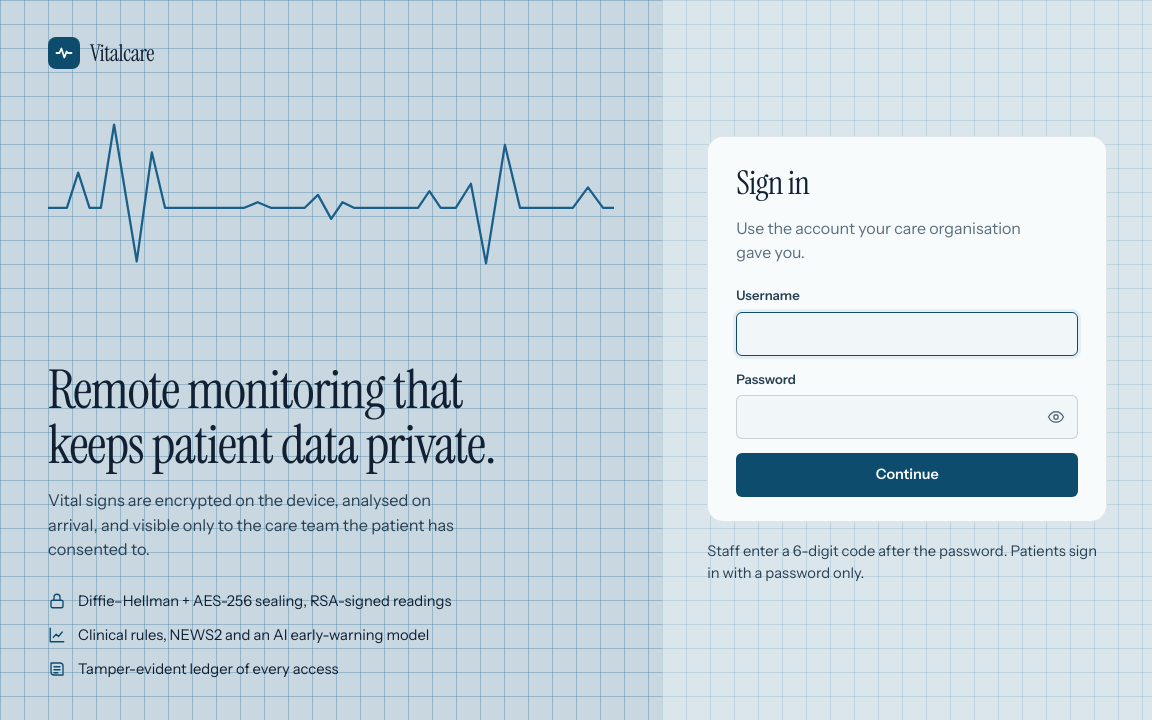
Login › can reveal the password and sends the username without surrounding spaces
Type "  dr.mehta " into the field labelled "Username" at (907, 334), box [736,312,1078,356]
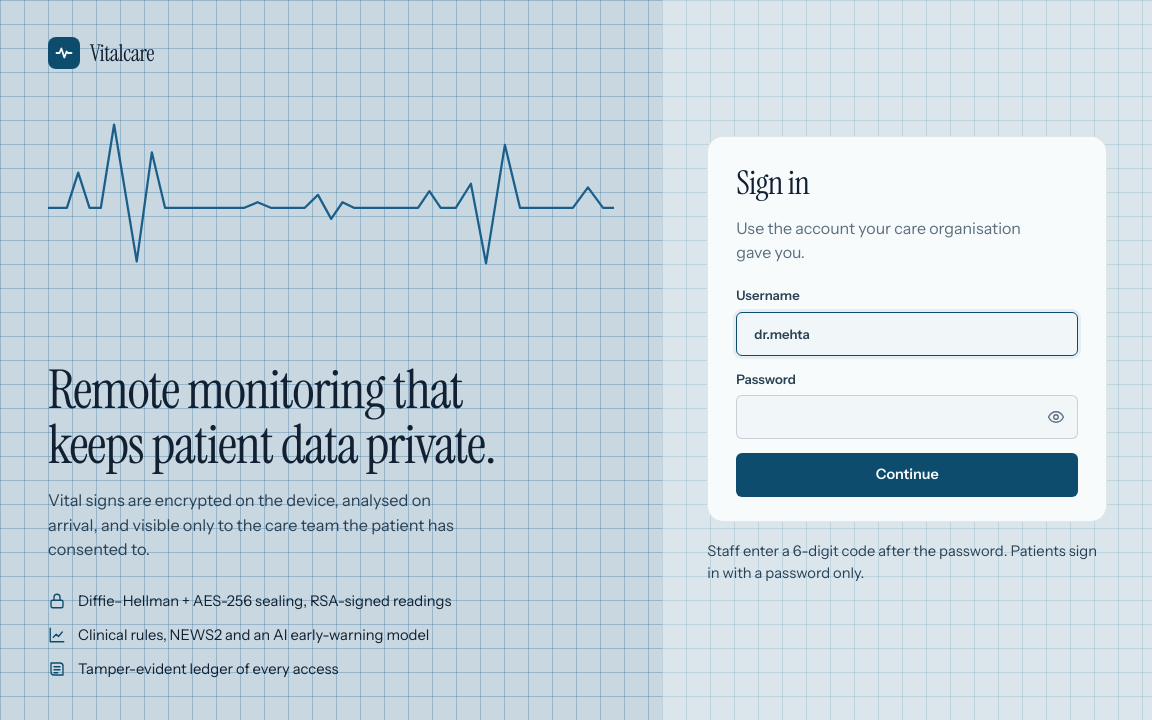
Type "AmberFalconHarbor482" into the password field labelled "Password" at (907, 417), box [736,395,1078,439]
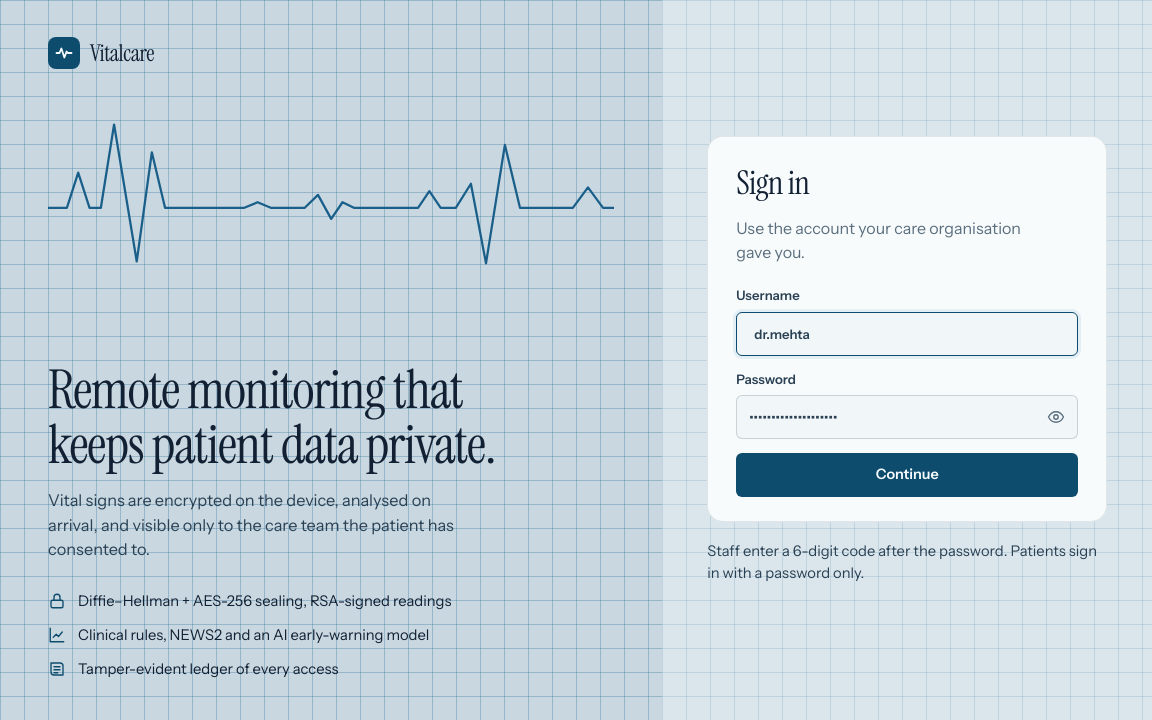
Click the button named "Show password" at (1056, 417), box [1038,399,1074,435]
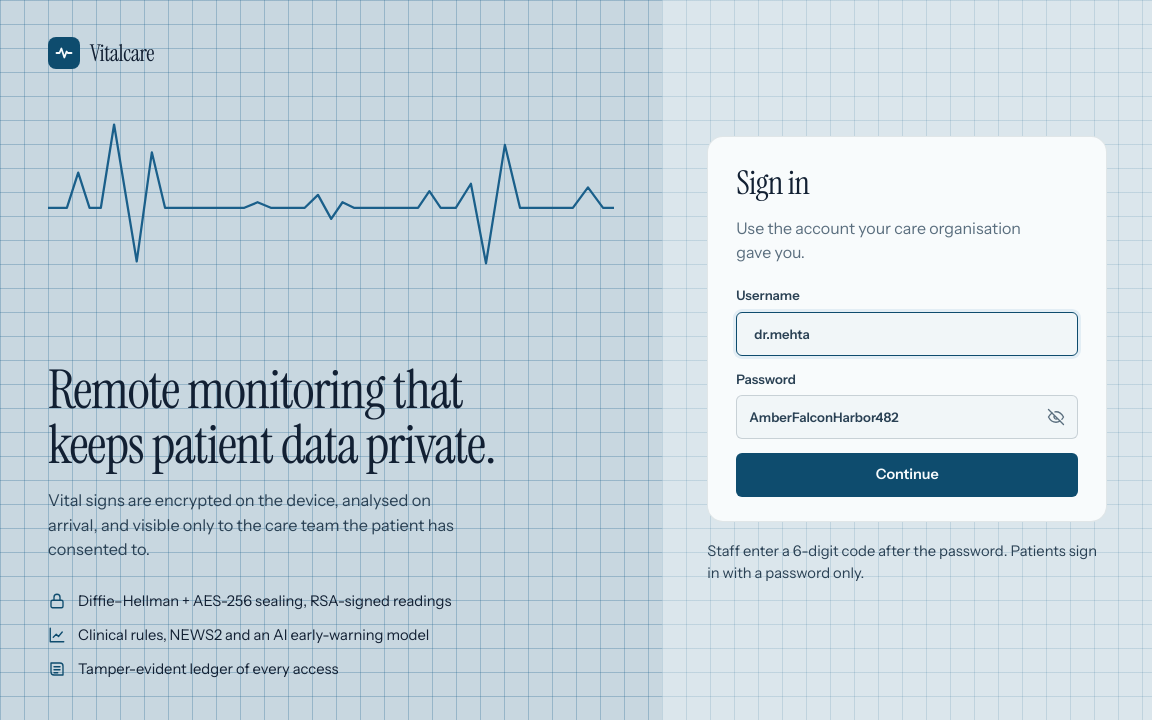
Click the button "Continue" at (907, 475), box [736,453,1078,497]
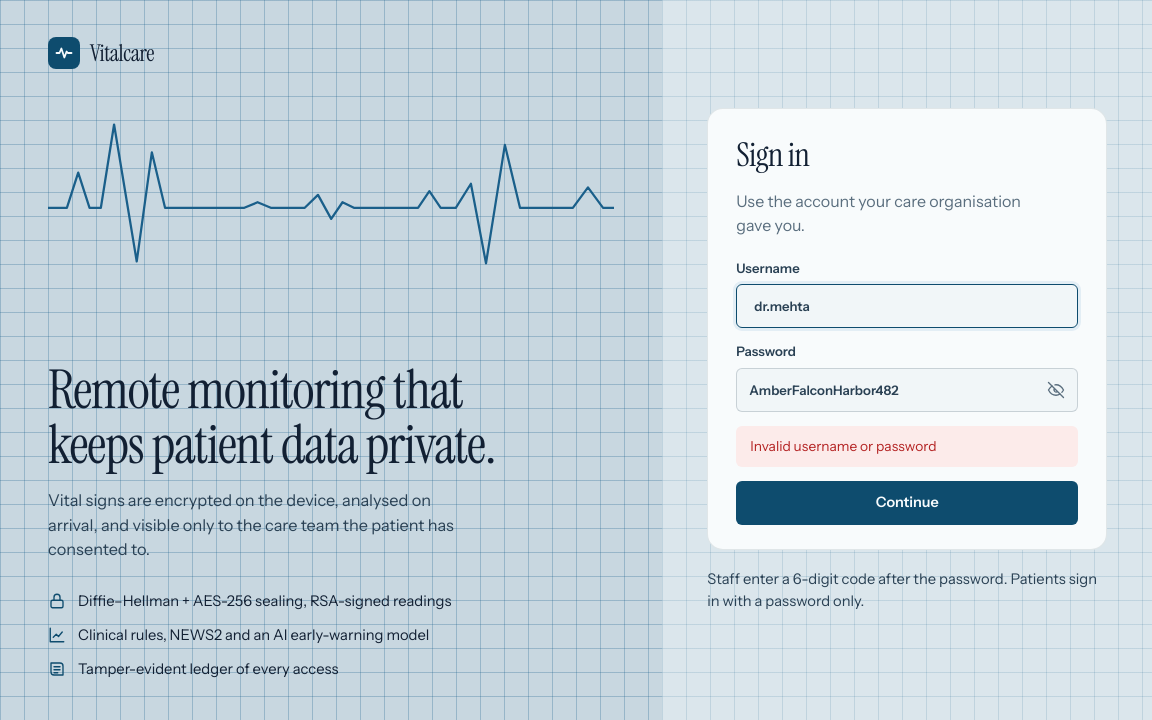
Check: the text "Invalid username or password" is shown, box [736,426,1078,466]
